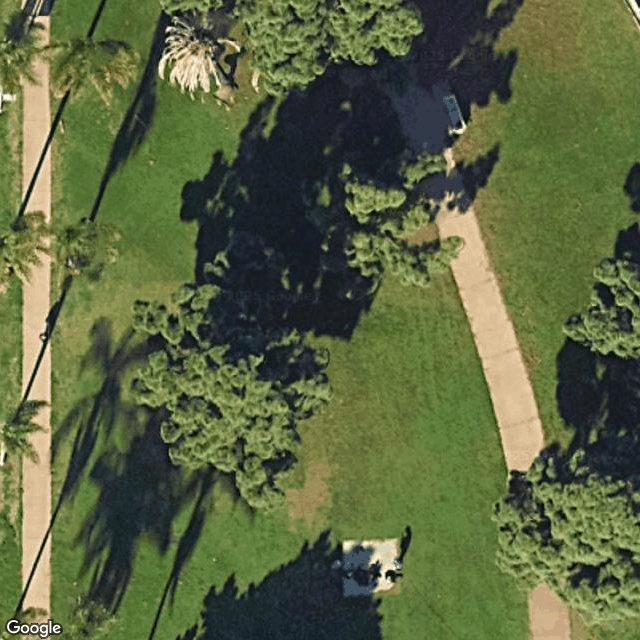palm: (153, 4, 250, 111), (44, 32, 145, 116), (54, 208, 129, 295), (2, 398, 65, 484), (2, 208, 60, 296), (1, 6, 45, 99)
